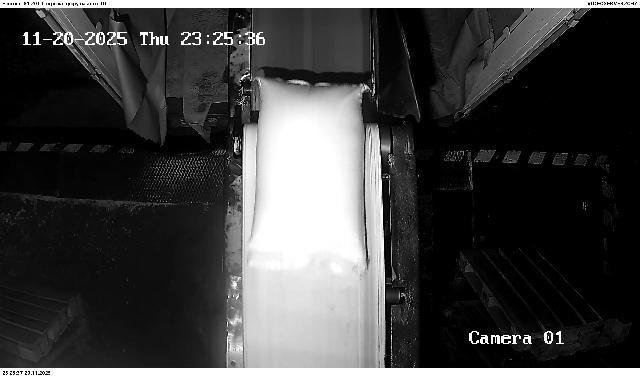bag: (248, 77, 371, 274)
